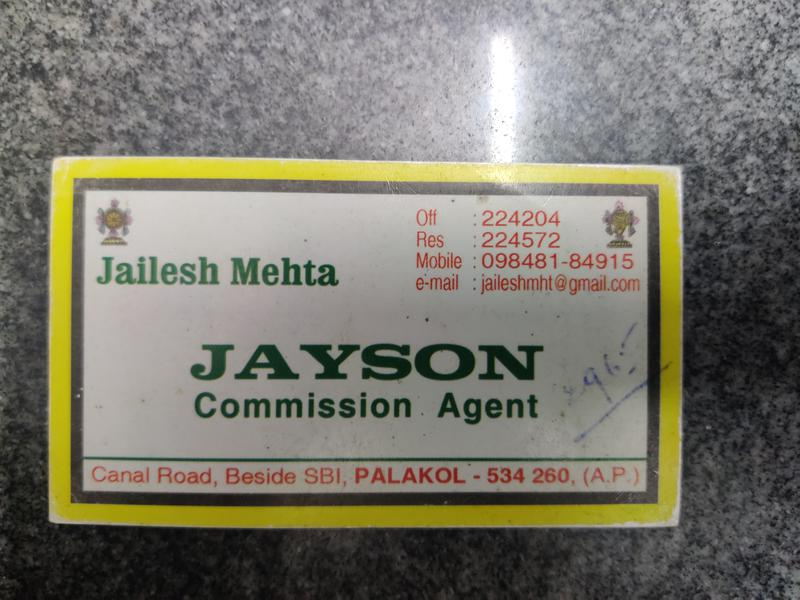card: (48, 155, 684, 530)
